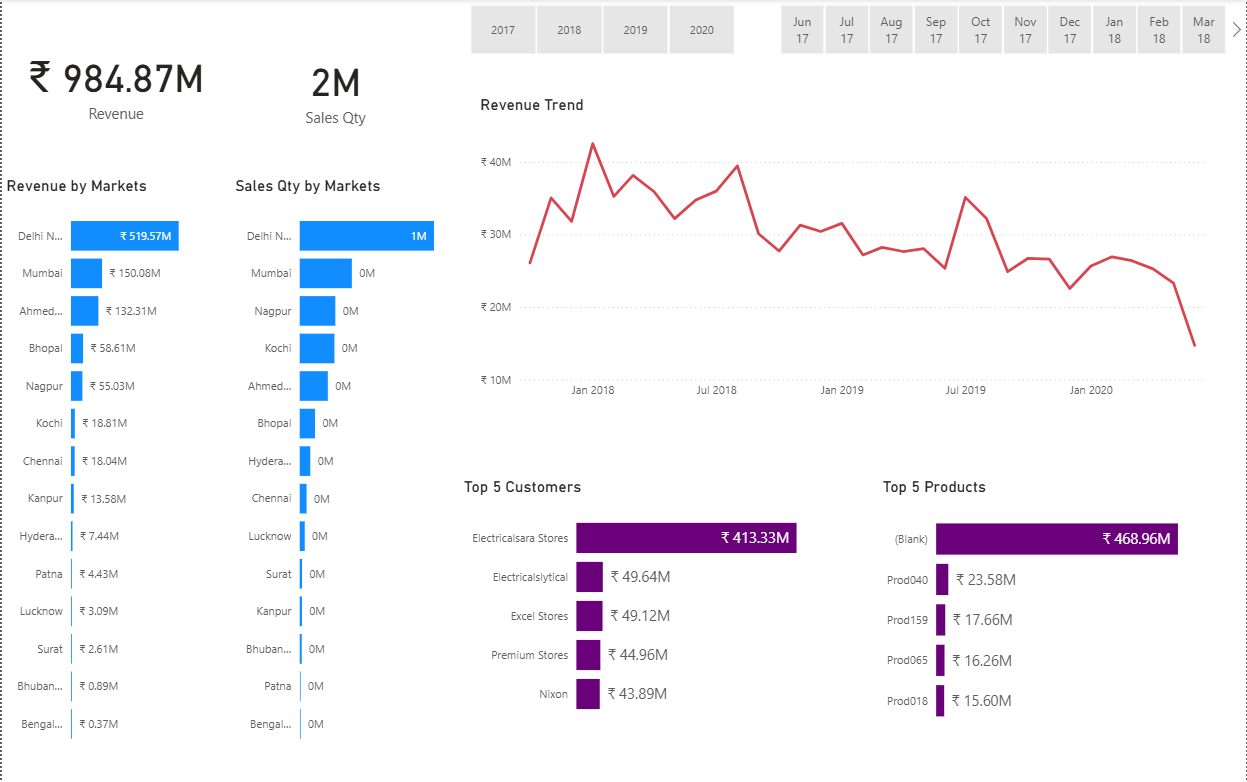

This screenshot's page, from the dashboard's own definition file:
{"tool":"powerbi","page":{"name":"Key Insights","canvas":[1350,850],"ordinal":0},"visuals":[{"type":"card","fields":{"Values":["BaseMeasures (2).Revenue"]},"box":[0,0,247.9,184.6],"z":0},{"type":"card","fields":{"Values":["BaseMeasures (2).Sales Qty"]},"box":[247.9,0,227.9,193.1],"z":1000},{"type":"barChart","title":"Revenue by Markets","fields":{"Y":["BaseMeasures (2).Revenue"],"Category":["sales markets.markets_name"]},"box":[0,193.1,247.9,631.9],"z":2000},{"type":"barChart","title":"Sales Qty by Markets","fields":{"Y":["BaseMeasures (2).Sales Qty"],"Category":["sales markets.markets_name"]},"box":[247.9,193.1,247.9,631.9],"z":3000},{"type":"slicer","fields":{"Values":["sales date.year"]},"box":[483.2,0,335.5,66.5],"z":4000},{"type":"slicer","fields":{"Values":["sales date.cy_date"]},"box":[818.6,0,531.7,66.5],"z":5000},{"type":"barChart","title":"Top 5 Customers","fields":{"Y":["BaseMeasures (2).Revenue"],"Category":["sales customers.custmer_name"]},"box":[495.8,519,446.2,274.3],"z":6000},{"type":"barChart","title":"Top 5 Products","fields":{"Y":["BaseMeasures (2).Revenue"],"Category":["sales products.product_code"]},"box":[950.7,519.2,399.5,282.8],"z":7000},{"type":"lineChart","title":"Revenue Trend","fields":{"Y":["BaseMeasures (2).Revenue"],"Category":["sales date.cy_date"]},"box":[513.8,104.4,809.1,338.6],"z":8000}]}

Visuals, with their boxes in screenshot pixels (x1, y1, x2, y2), scaled from the page's 1350x850 canvas onto the 1247x782 screenshot:
card - BaseMeasures (2).Revenue: bbox(0, 0, 229, 170)
card - BaseMeasures (2).Sales Qty: bbox(229, 0, 439, 178)
"Revenue by Markets" barChart: bbox(0, 178, 229, 759)
"Sales Qty by Markets" barChart: bbox(229, 178, 458, 759)
slicer - sales date.year: bbox(446, 0, 756, 61)
slicer - sales date.cy_date: bbox(756, 0, 1246, 61)
"Top 5 Customers" barChart: bbox(458, 477, 870, 730)
"Top 5 Products" barChart: bbox(878, 478, 1246, 738)
"Revenue Trend" lineChart: bbox(475, 96, 1222, 408)
